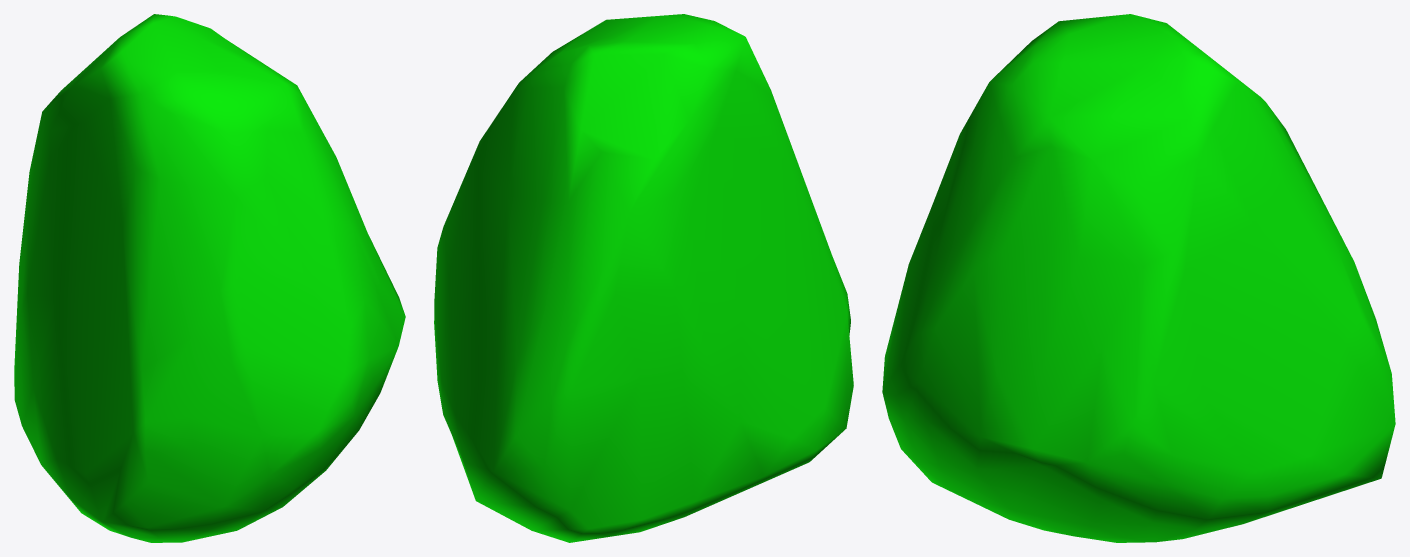
Rendered from Rock5_L.fbx.
3 views of the same model, side by side, from view 1: azimuth 30°, elevation 25°; view 2: azimuth 150°, elevation 25°; view 3: azimuth 270°, elevation 25° (orthographic). The views are drawn at different scales.
Visible parts, largest first — view 1: Rock5_TEST_L; view 2: Rock5_TEST_L; view 3: Rock5_TEST_L.
Boxes of the visible parts, x1,y1,x2,y2 form: Rock5_TEST_L: (14,14,405,542); Rock5_TEST_L: (434,14,853,542); Rock5_TEST_L: (882,14,1395,542).
Bounding box in the file's own units: 2.97 × 3.76 × 3.61.
